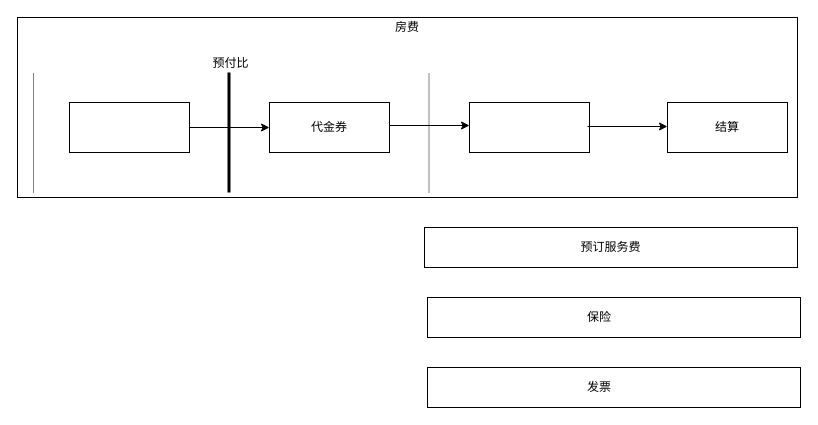
The diagram is 818 pixels wide and 425 high, and some of its shapes have lost their labels. Here are the shapes that lost their labels. From the top down, the centre of each, then its label:
At point (129, 127): "促销".
At point (529, 127): "支付".
